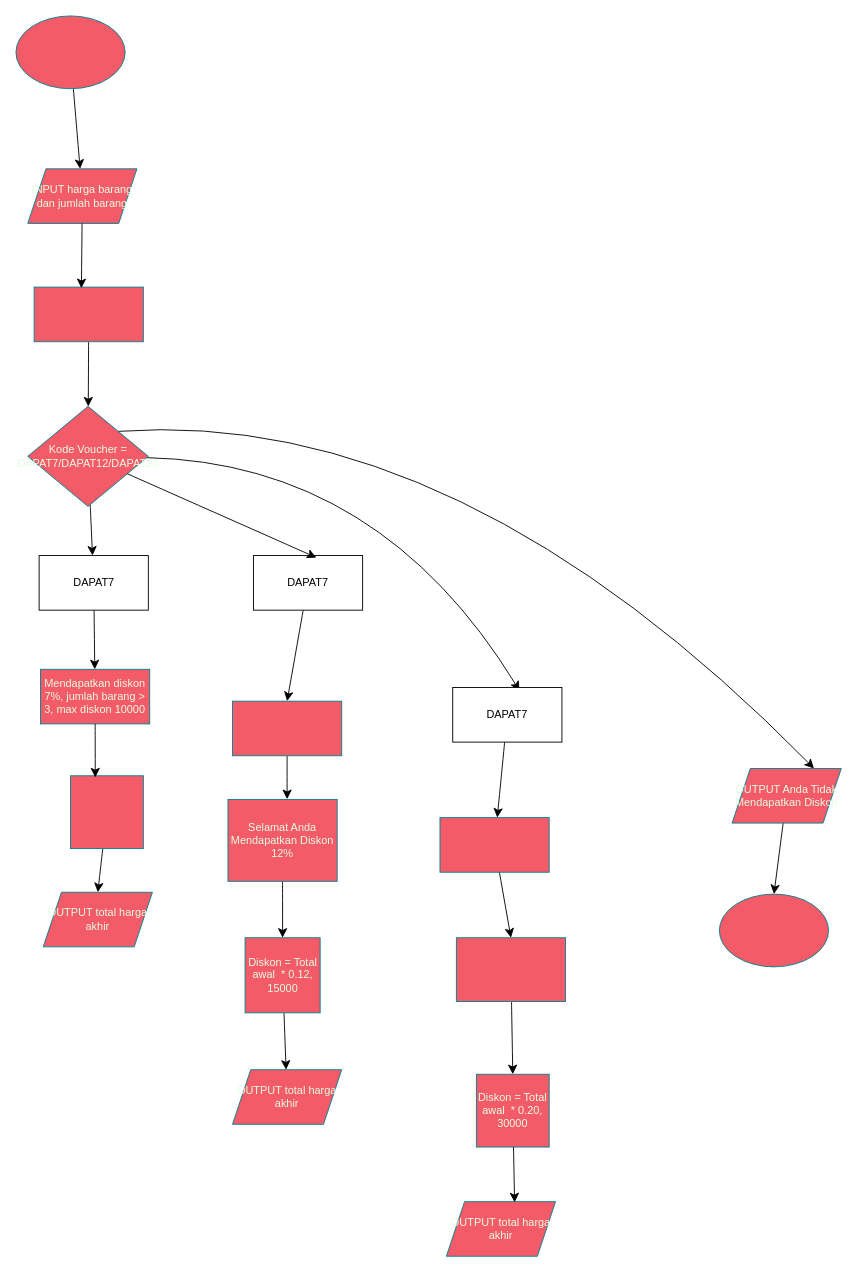
The diagram is 857 pixels wide and 1272 high, and some of its shapes have lost their labels. Each missing label, with the box of its shape:
Diskon = Total awal * 0.7, 10000: (70, 775, 143, 849)
END: (718, 893, 829, 967)
Mendapatkan diskon 12%, jumlah barang > 7, max diskon 15000: (232, 700, 342, 756)
Mendapatkan diskon 20%, jumlah barang > 15, max diskon 30000: (439, 817, 549, 872)
Selamat Anda Mendapatkan Diskon 20%: (455, 937, 566, 1001)
START: (15, 15, 125, 89)
total awal = harga barang * jumlah barang: (33, 286, 143, 342)
